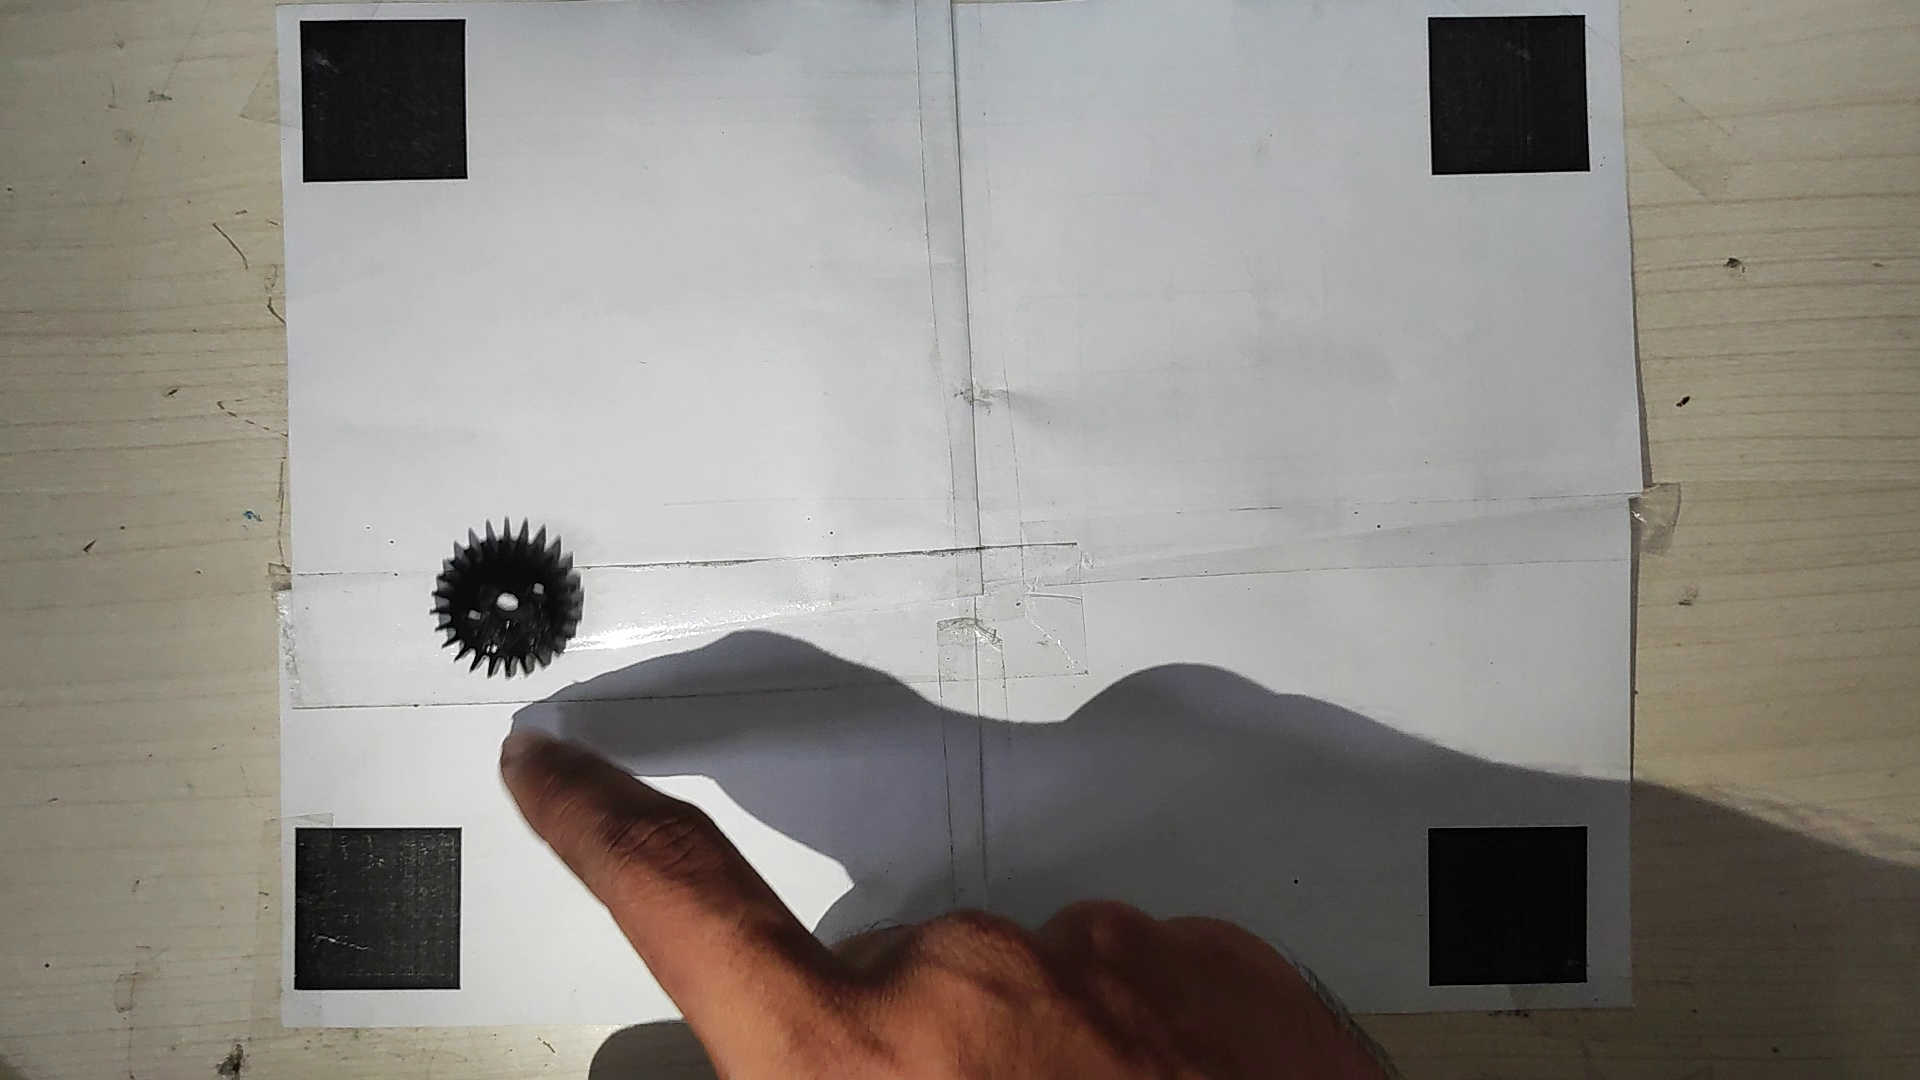Gear: (422, 509, 590, 681)
